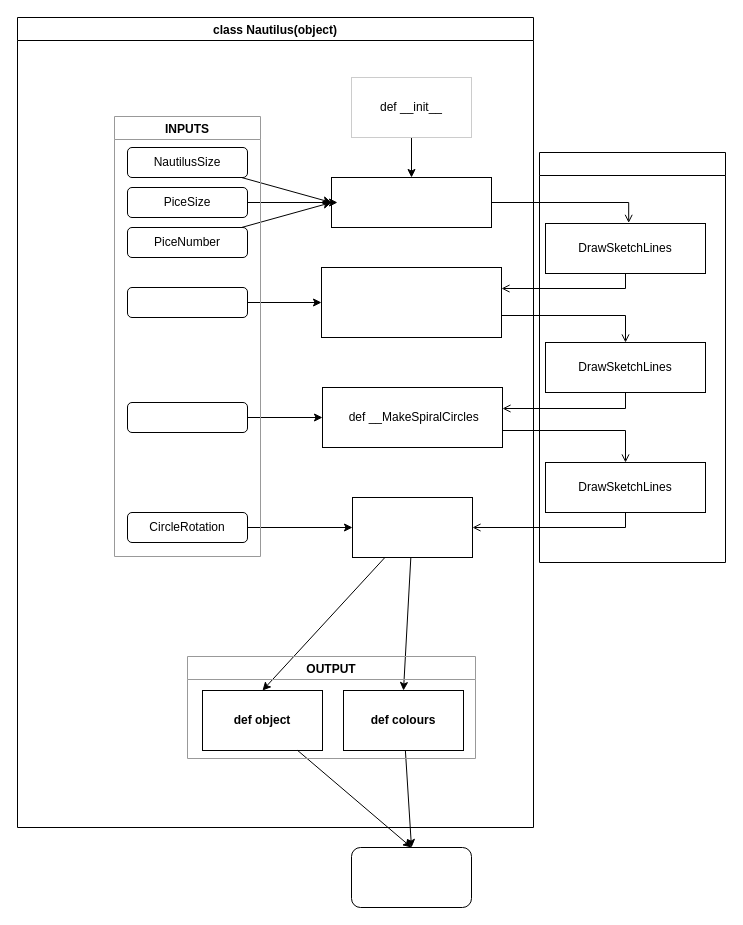
Image size: 743x925. Some labels were removed from this diagram. Each missing label, with the centre of its shape:
"CircleSize" goes at (x=187, y=417).
"class DrawSketch" goes at (x=632, y=357).
"def __FibonacciSharpness OR SeriesSharpness" goes at (x=411, y=302).
"def __MakeSpiralPoints" goes at (x=411, y=202).
"def __RotateCircle" goes at (x=412, y=527).
"Grasshopper" goes at (x=411, y=877).
"Sharpness" goes at (x=187, y=302).
